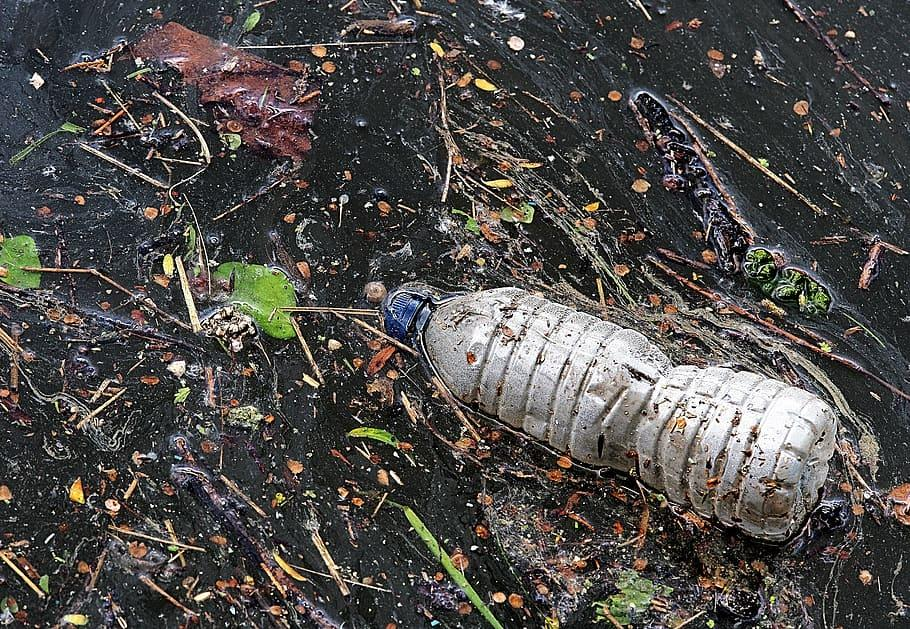bottle: (372, 257, 855, 553)
